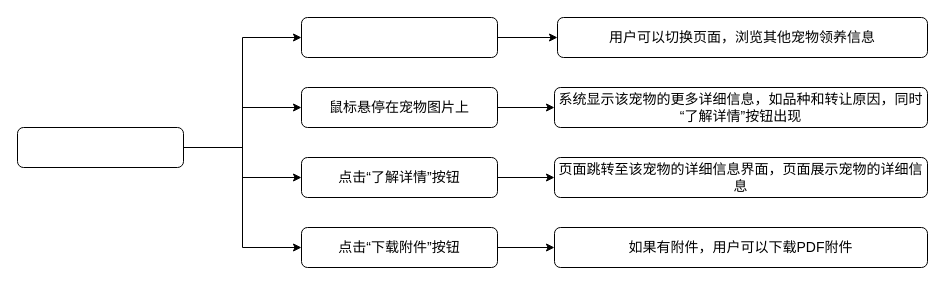
This 945x285 diagram has some shape labels left out. The centre of each missing label's shape, as x and y in pixels:
"点击底部数字" goes at (399,37).
"进入宠物领养信息界面" goes at (100,147).
